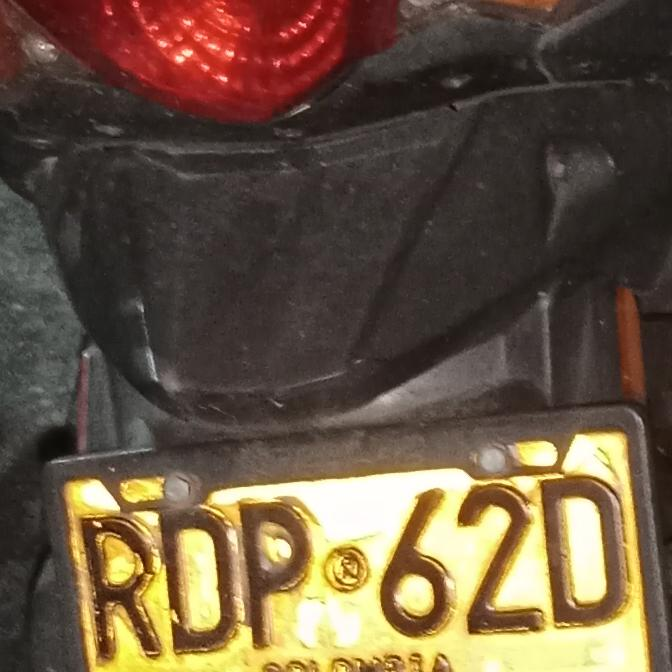plates: (60, 424, 663, 672)
